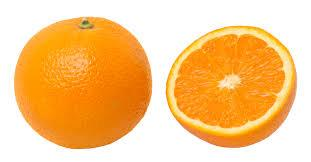orange: (8, 16, 154, 153), (158, 22, 305, 145)
